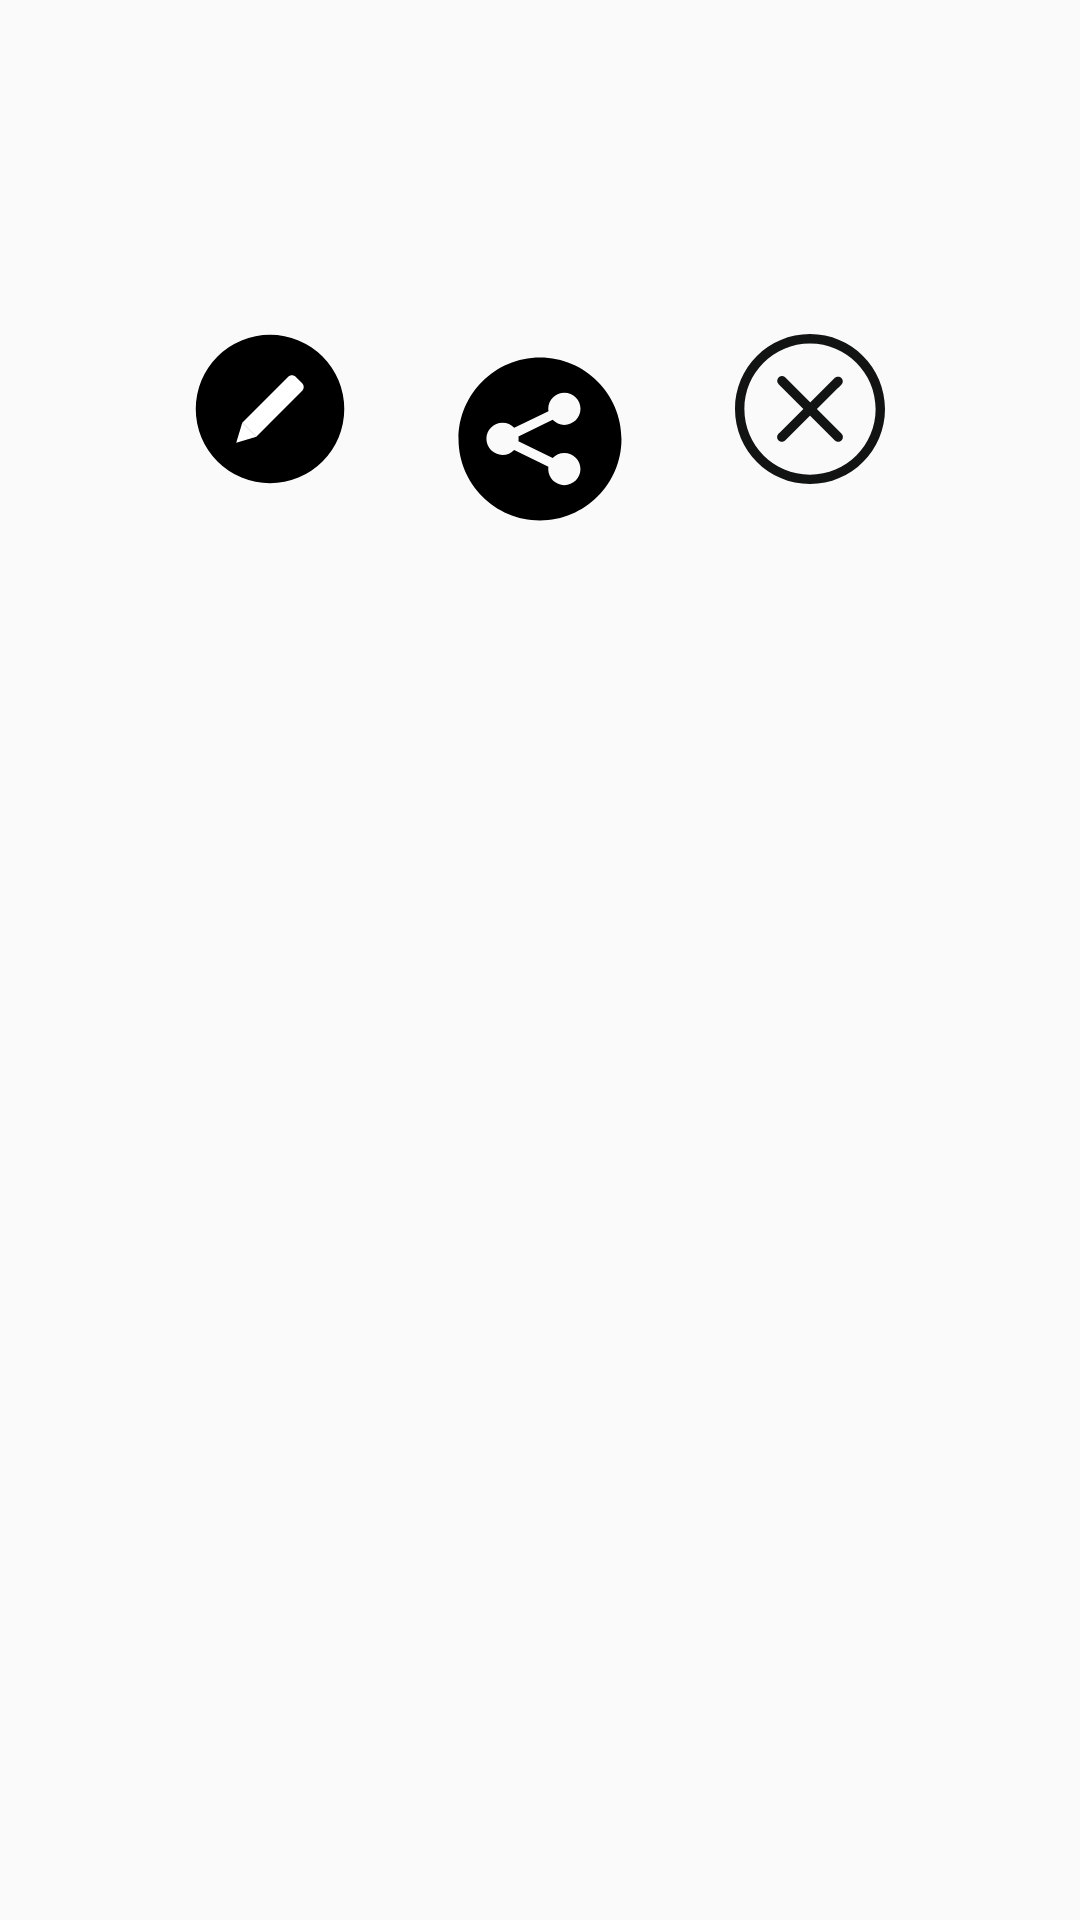

Locate icon controls on the screen. Image size 1080px×1920px, boxes as (x1, y1, x2, y2).
cancel: (735, 334, 885, 484)
edit: (195, 334, 345, 484)
share: (458, 357, 622, 521)
